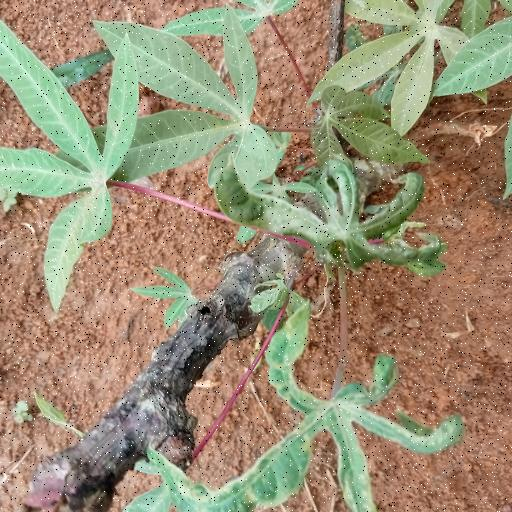Cassava_Mosaic: (219, 312, 458, 512), (4, 8, 138, 294), (74, 0, 273, 169), (249, 150, 450, 281)
